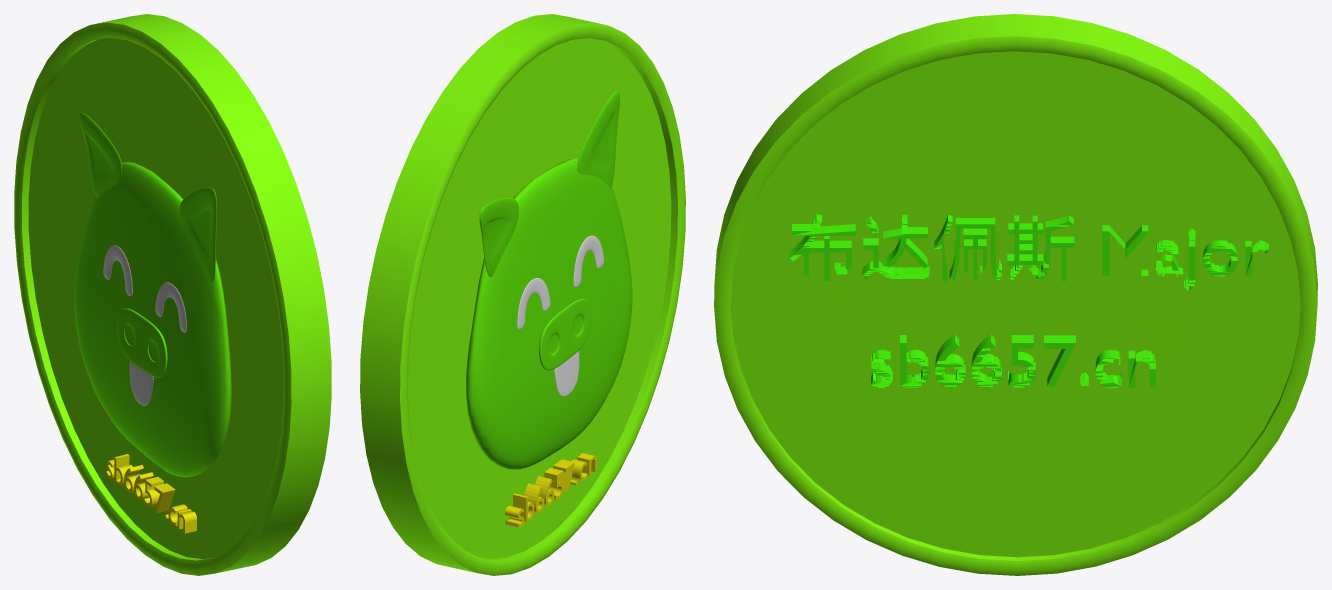
3 views of the same model, side by side, from view 1: azimuth 30°, elevation 25°; view 2: azimuth 150°, elevation 25°; view 3: azimuth 270°, elevation 25° (orthographic). The views are drawn at different scales.
Parts seen in each view (by area): view 1: GoldCoinBlank, Plane.005, 文本.001; view 2: GoldCoinBlank, Plane.005, 文本.001; view 3: GoldCoinBlank, 文本.004.
Part boxes in pixels (x1,y1,x2,y2): GoldCoinBlank: (14,14,331,575); Plane.005: (74,112,231,477); 文本.001: (106,454,196,533); GoldCoinBlank: (360,14,685,575); Plane.005: (466,90,632,469); 文本.001: (505,453,596,527); GoldCoinBlank: (714,14,1317,575); 文本.004: (789,214,1268,388).
Bounding box in the file's own units: 0.1991 × 1.42 × 1.42.
